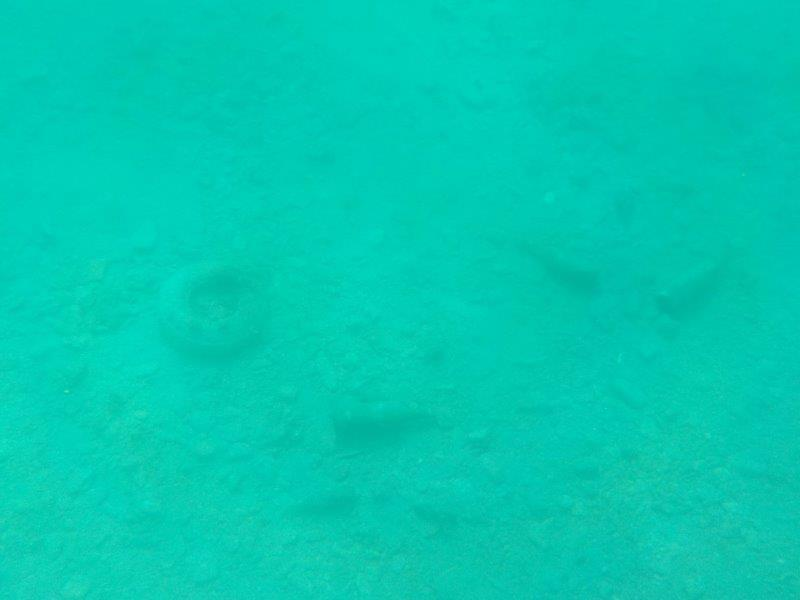bottle: (653, 238, 742, 316), (510, 229, 607, 298), (325, 392, 446, 437)
tire: (144, 255, 276, 360)
